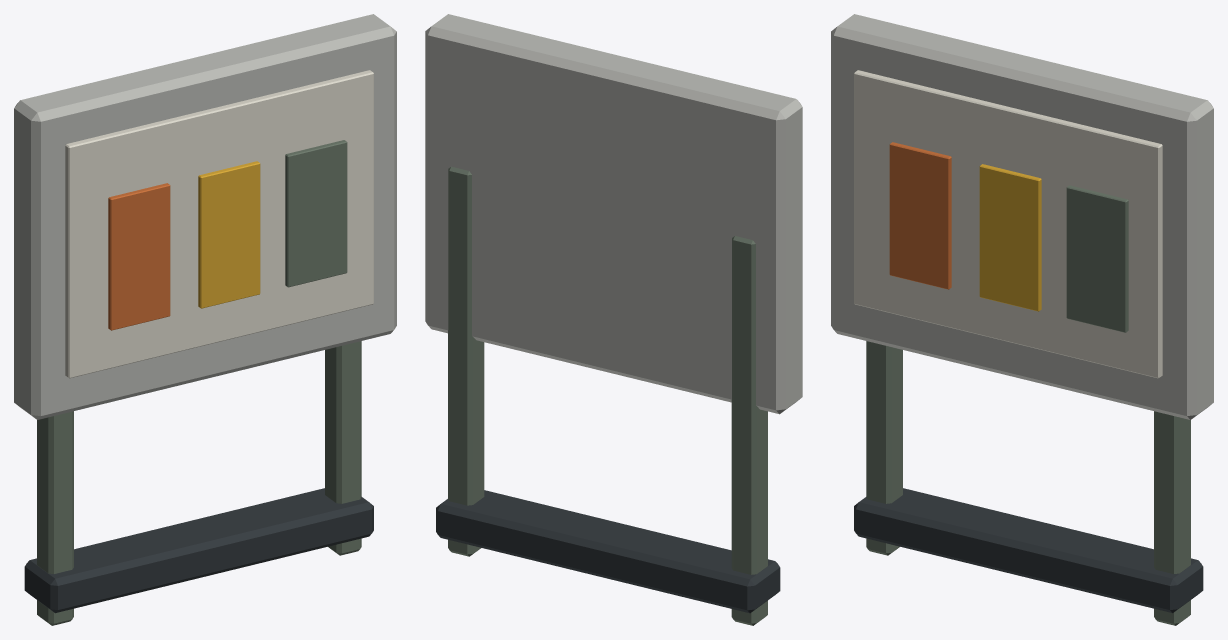
File: PRP_CITY_012_neighborhood_notice_board.glb
The picture shows the model from 3 angles, left to right: view 1: azimuth 30°, elevation 25°; view 2: azimuth 150°, elevation 25°; view 3: azimuth 330°, elevation 25°; orthographic projection.
Parts seen in each view (by area): view 1: PRP_CITY_012_neighborhood_notice_board_RenderMesh; view 2: PRP_CITY_012_neighborhood_notice_board_RenderMesh; view 3: PRP_CITY_012_neighborhood_notice_board_RenderMesh.
Part boxes in pixels (<box>): PRP_CITY_012_neighborhood_notice_board_RenderMesh: <box>14,14,396,625</box>; PRP_CITY_012_neighborhood_notice_board_RenderMesh: <box>425,14,802,625</box>; PRP_CITY_012_neighborhood_notice_board_RenderMesh: <box>831,14,1213,625</box>.
Bounding box in the file's own units: 1.22 × 1.68 × 0.237.
